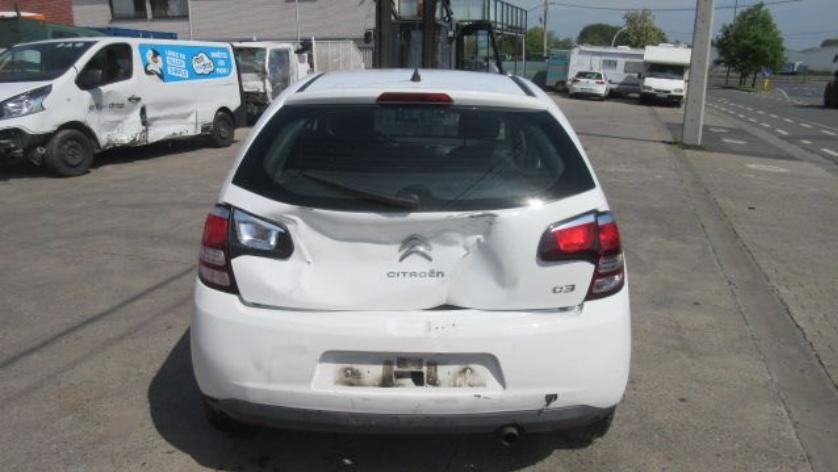Back-bumper: (189, 255, 630, 437)
Back-windshield: (232, 104, 596, 213)
Roof: (306, 69, 531, 95)
Tail-light: (583, 210, 625, 302), (197, 203, 239, 295), (227, 207, 293, 261), (537, 211, 598, 264)
Trunk: (221, 88, 609, 311)
